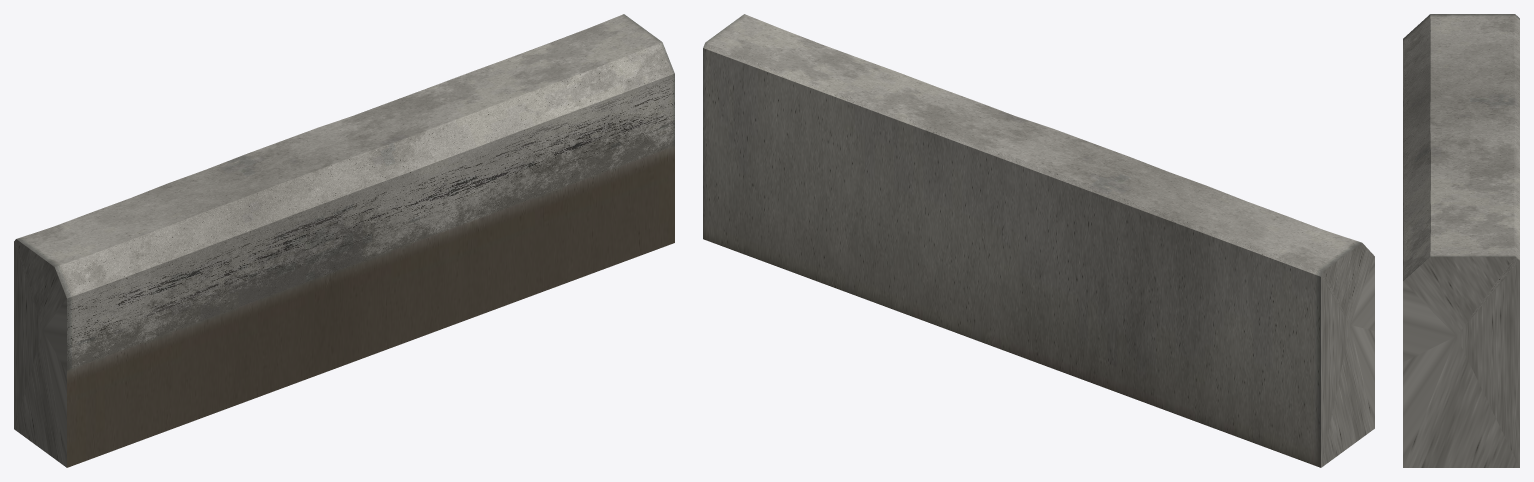
File: curb_ramp_up_web.glb
3 renders of one model, left to right at view 1: azimuth 30°, elevation 25°; view 2: azimuth 150°, elevation 25°; view 3: azimuth 270°, elevation 25°, orthographic. The views are drawn at different scales.
Visible parts, largest first — view 1: curb_ramp_up_Mesh; view 2: curb_ramp_up_Mesh; view 3: curb_ramp_up_Mesh.
Part boxes in pixels (x1,y1,x2,y2): curb_ramp_up_Mesh: (14,14,674,467); curb_ramp_up_Mesh: (703,14,1374,467); curb_ramp_up_Mesh: (1403,14,1519,467).
Bounding box in the file's own units: 0.995 × 0.42 × 0.15.
Materials: 1 (1 with a texture image).
